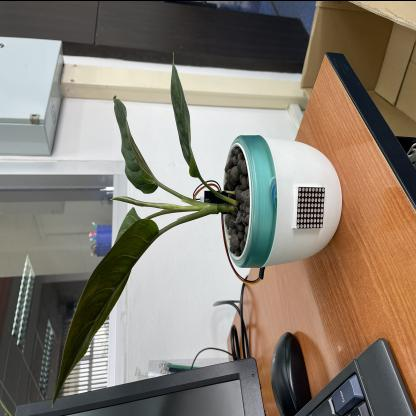Aglaonema: (49, 52, 220, 406)
